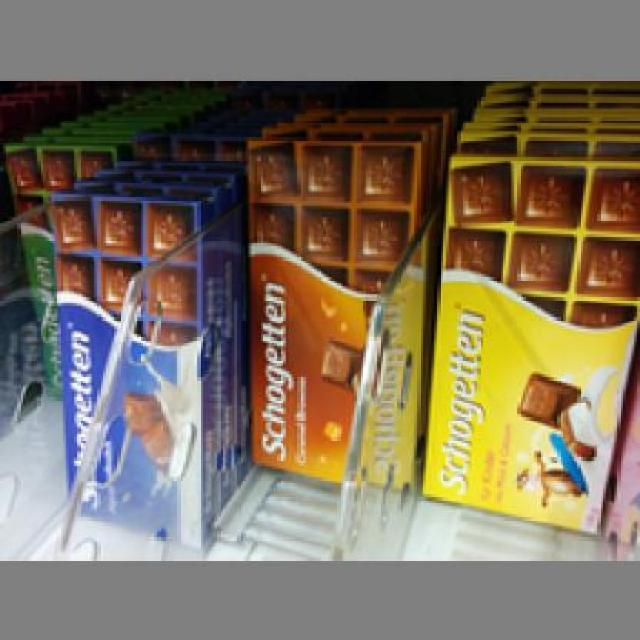Chocolate: (417, 157, 637, 532), (235, 130, 414, 487), (45, 192, 208, 538)
